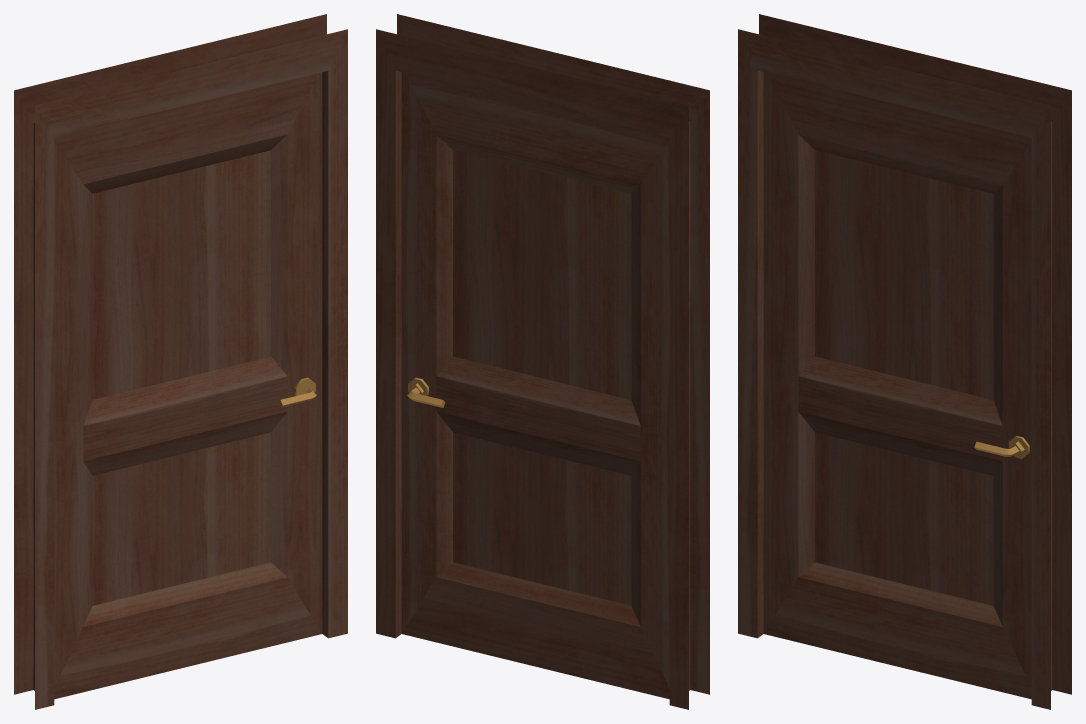
Rendered from DoorIn.fbx.
3 views of the same model, side by side, from view 1: azimuth 30°, elevation 25°; view 2: azimuth 150°, elevation 25°; view 3: azimuth 330°, elevation 25° (orthographic).
Parts seen in each view (by area): view 1: DoorIn, DoorFrameIn; view 2: DoorIn, DoorFrameIn; view 3: DoorIn, DoorFrameIn.
Boxes of the visible parts, x1,y1,x2,y2 form: DoorIn: [54, 72, 322, 699]; DoorFrameIn: [14, 14, 347, 709]; DoorIn: [401, 72, 669, 699]; DoorFrameIn: [376, 14, 709, 709]; DoorIn: [763, 72, 1031, 699]; DoorFrameIn: [738, 14, 1071, 709].
Size of the model in its own units: 130 by 240 by 23.55.
